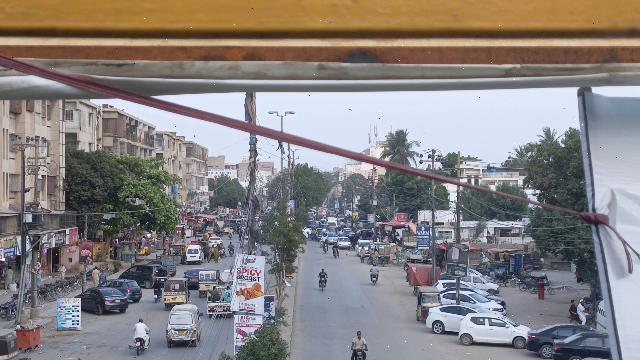Bike: (131, 335, 149, 356), (567, 313, 596, 326), (349, 347, 370, 360), (317, 276, 330, 293), (152, 288, 162, 304), (371, 274, 379, 288)
Car: (457, 311, 530, 350), (525, 322, 590, 357), (550, 331, 609, 359), (425, 303, 478, 334), (73, 288, 129, 317), (442, 290, 507, 314), (98, 279, 145, 302)
Person: (131, 316, 150, 339), (349, 331, 369, 350), (577, 296, 588, 324), (569, 295, 578, 322), (369, 262, 381, 274), (318, 267, 329, 279), (152, 278, 162, 290)
Rickshaw: (413, 285, 441, 322), (163, 278, 190, 308), (196, 270, 220, 297)
Suzuki: (205, 284, 236, 320)
Van: (163, 303, 205, 349), (184, 244, 205, 264)
